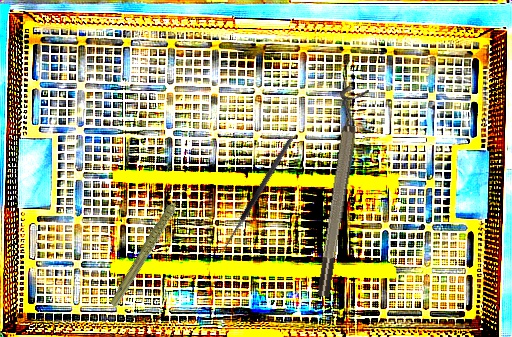Fixation Ring: (304, 85, 370, 298)
Handpiece: (88, 185, 213, 310)
Hook Surgical: (218, 135, 300, 260)
